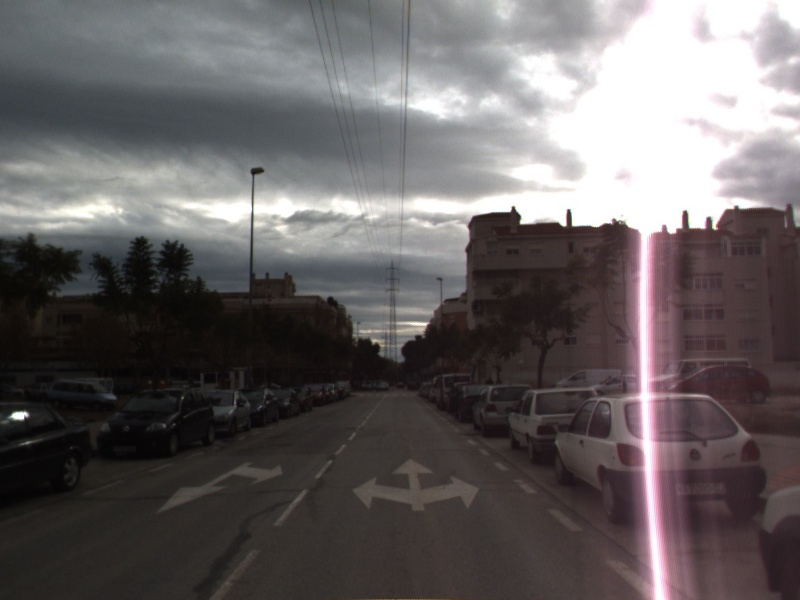STRAIGHT_LEFT_RIGHT: (349, 456, 482, 512)
